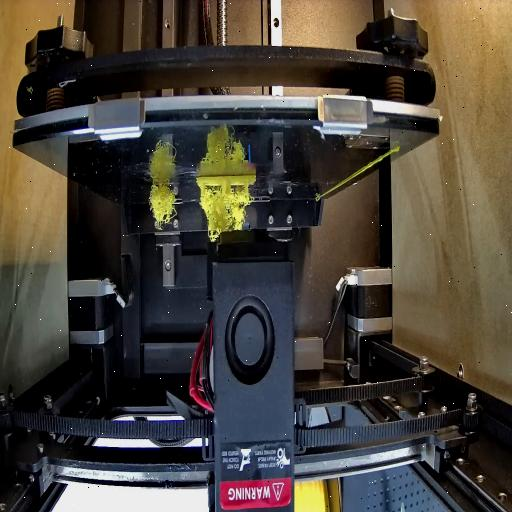spaghetti: (198, 187, 248, 237), (148, 182, 180, 224)
